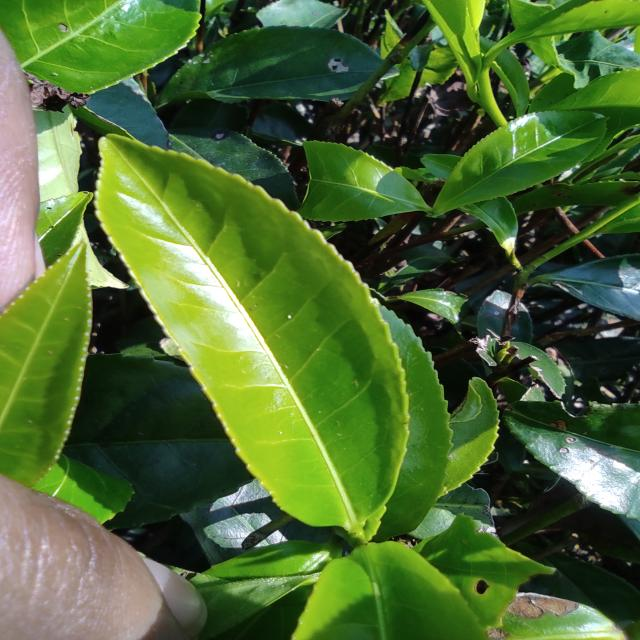Category C(4-7 days): (59, 101, 430, 554)
